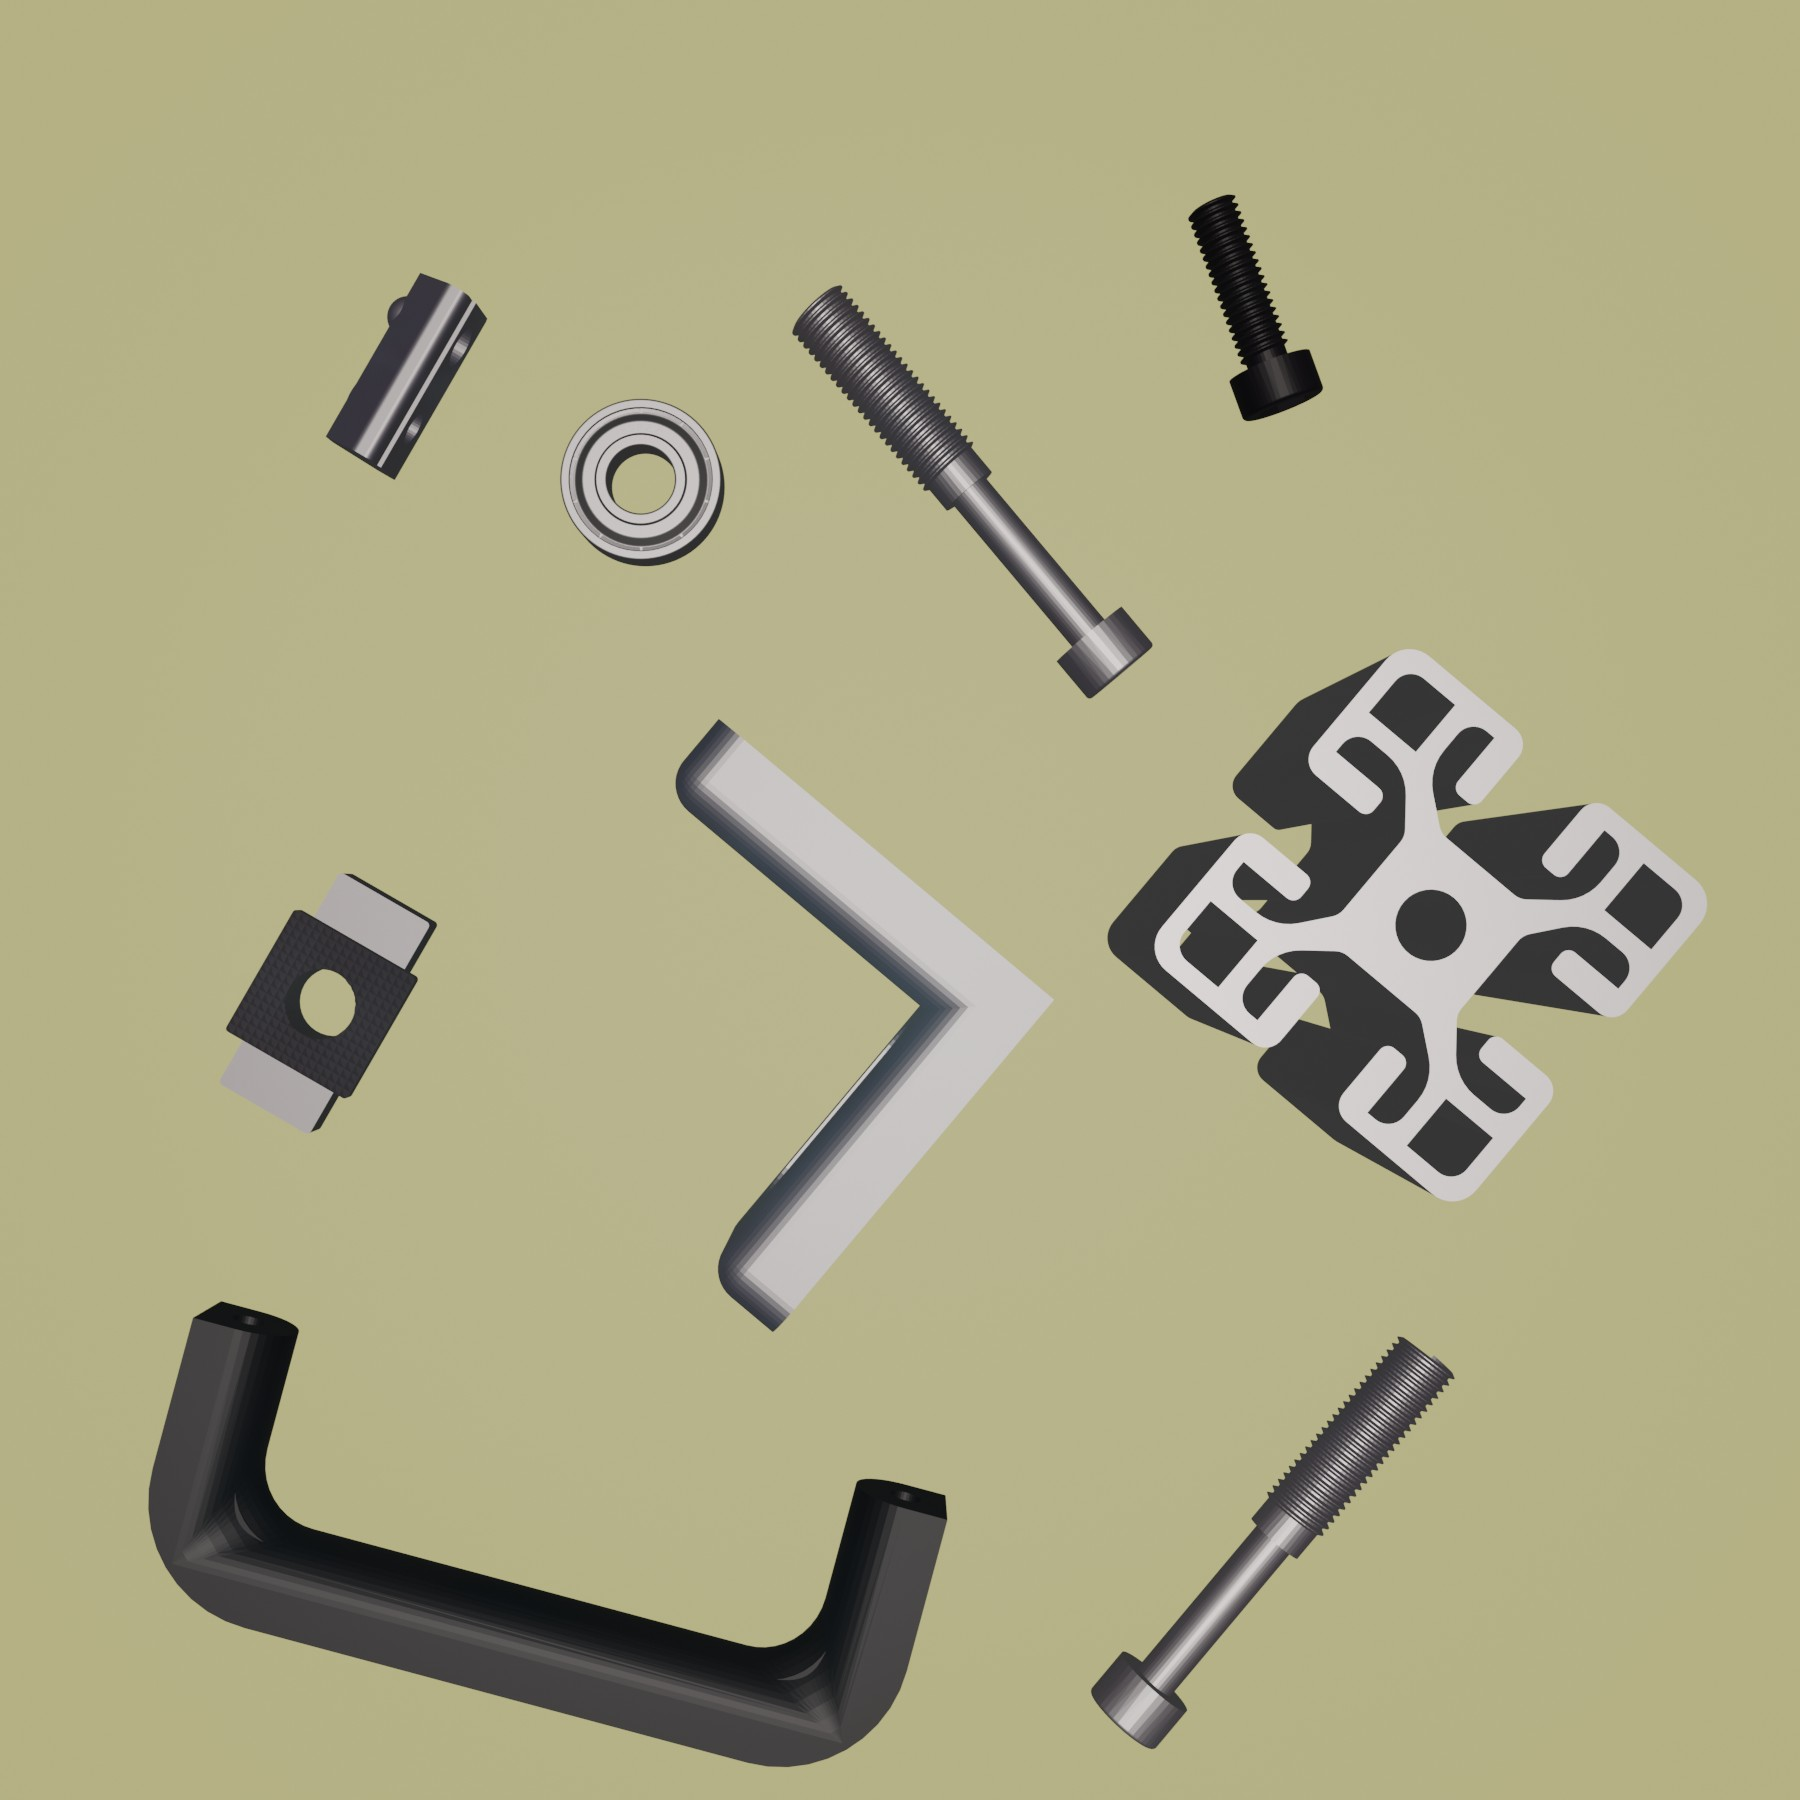Aluminium Extension: (1104, 648, 1713, 1207)
Ball Bearing: (559, 396, 727, 569)
Multiwinkel: (674, 719, 1055, 1332)
Pull Handle: (147, 1299, 949, 1770)
Shoulder Socket Head Cap Screw: (1090, 1335, 1455, 1751), (793, 284, 1152, 701)
Socket Head Cap Screw: (1187, 193, 1324, 422)
T Nut Square: (218, 872, 438, 1136)
T Spring Nut: (323, 274, 488, 481)
